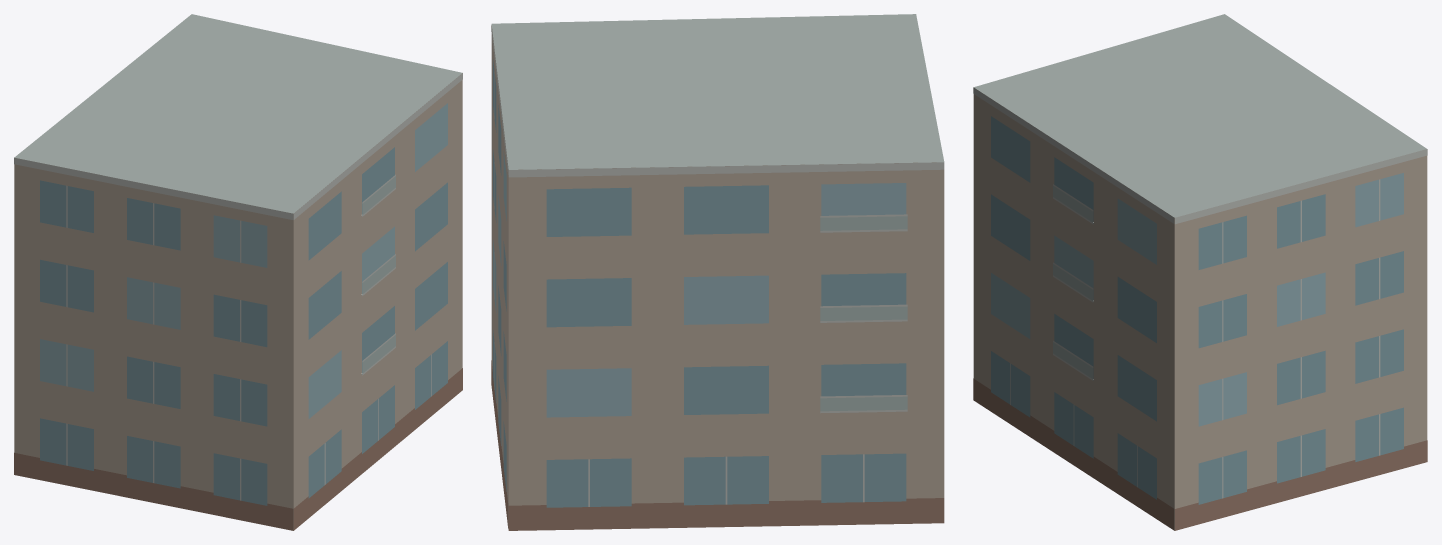
Rendered from survey-upis-32625520.glb.
3 renders of one model, left to right at view 1: azimuth 30°, elevation 25°; view 2: azimuth 150°, elevation 25°; view 3: azimuth 270°, elevation 25°, orthographic. The views are drawn at different scales.
Parts seen in each view (by area): view 1: survey-upis-32625520.tmp; view 2: survey-upis-32625520.tmp; view 3: survey-upis-32625520.tmp.
Part boxes in pixels (bbox=[...]): survey-upis-32625520.tmp: bbox=[14, 14, 462, 530]; survey-upis-32625520.tmp: bbox=[491, 14, 944, 530]; survey-upis-32625520.tmp: bbox=[973, 14, 1427, 530].
Bounding box in the file's own units: 16.35 × 11.7 × 15.38.
